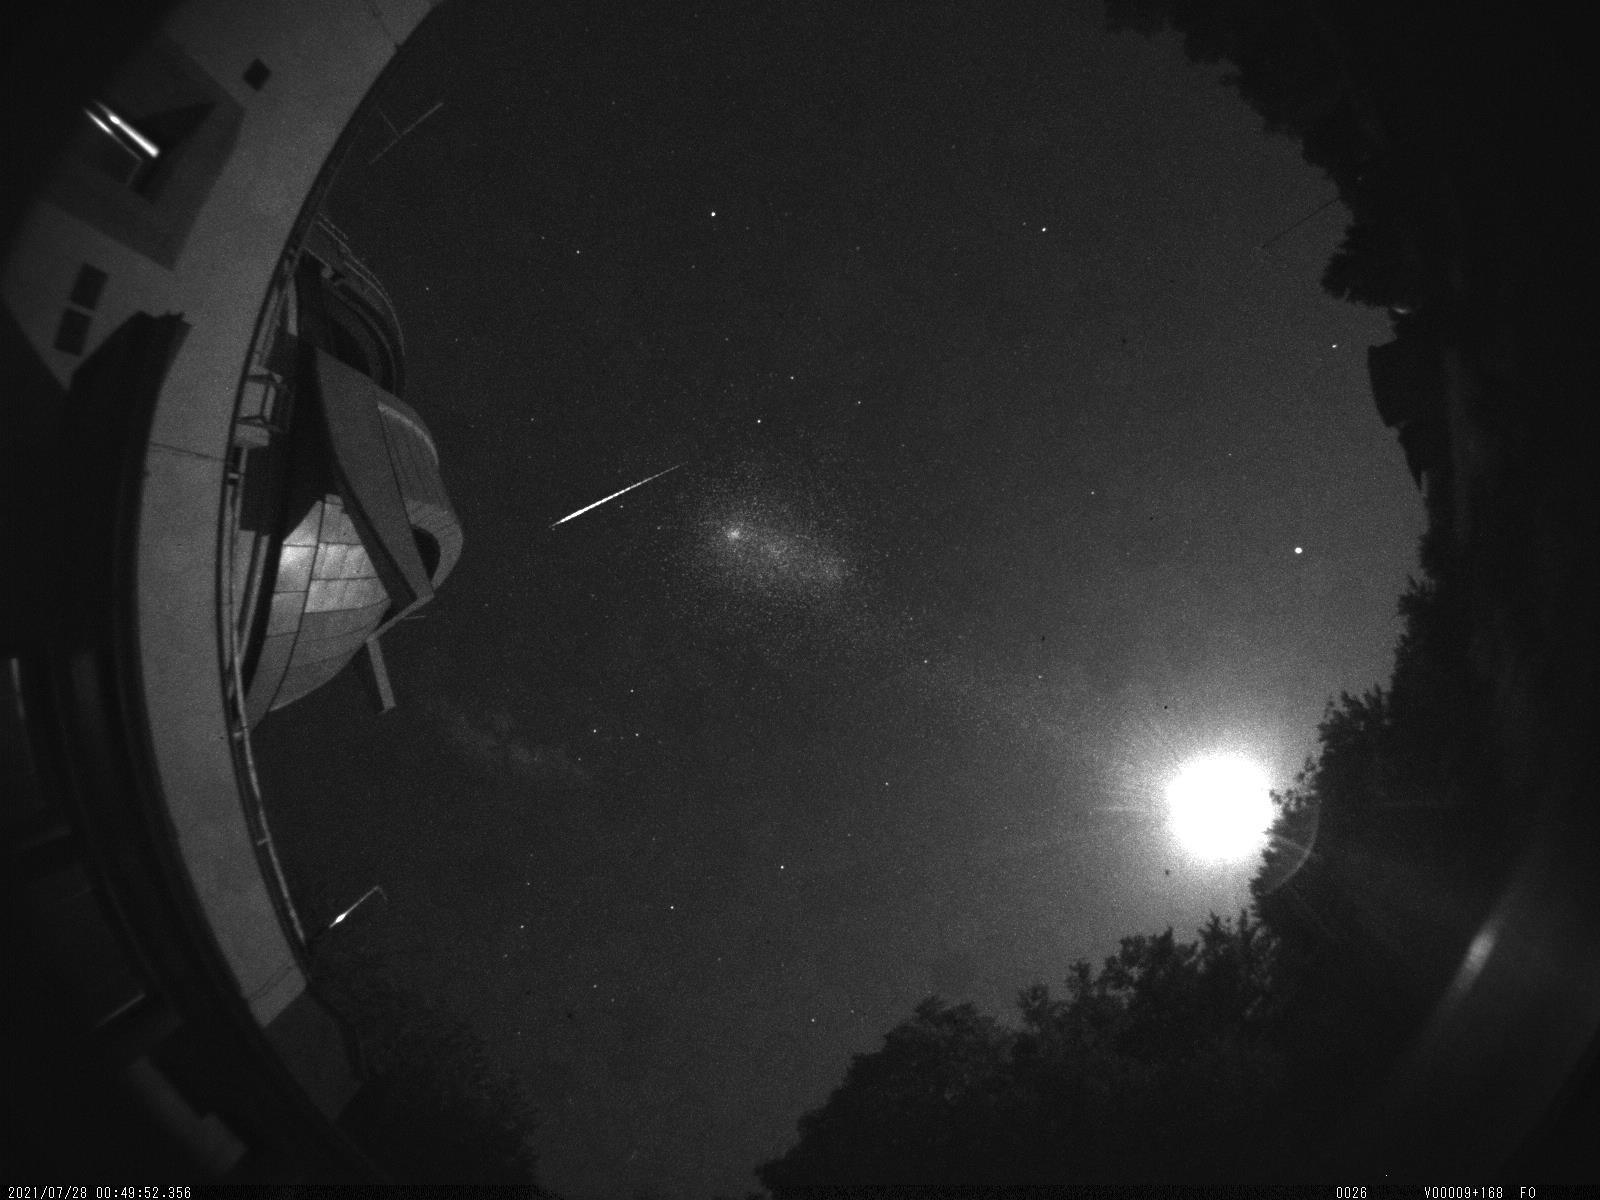Meteor: (540, 452, 702, 537)
